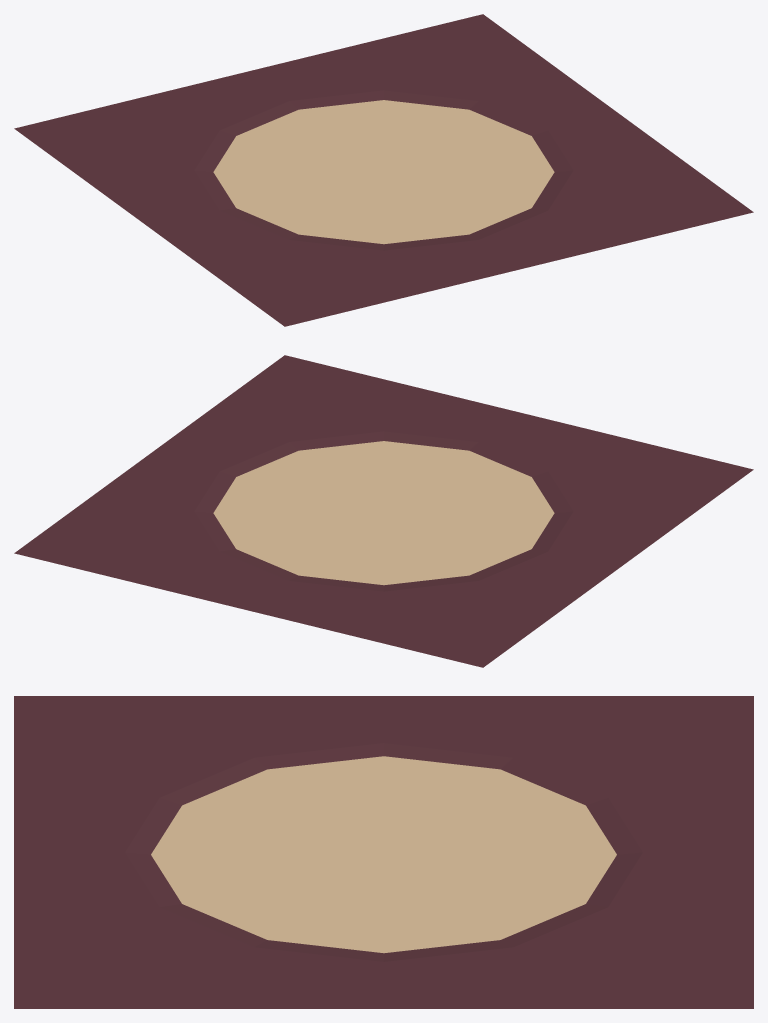
File: tiles-nb-tile-golf-sand-nb.glb
The picture shows the model from 3 angles, top to bottom: view 1: azimuth 30°, elevation 25°; view 2: azimuth 150°, elevation 25°; view 3: azimuth 270°, elevation 25°; orthographic projection. The views are drawn at different scales.
Visible parts, largest first — view 1: tile-golf-sand-nb; view 2: tile-golf-sand-nb; view 3: tile-golf-sand-nb.
Part boxes in pixels (bbox=[...]): tile-golf-sand-nb: bbox=[14, 14, 753, 326]; tile-golf-sand-nb: bbox=[14, 355, 753, 667]; tile-golf-sand-nb: bbox=[14, 696, 753, 1008].
Bounding box in the file's own units: 30 × 0.1 × 30.
